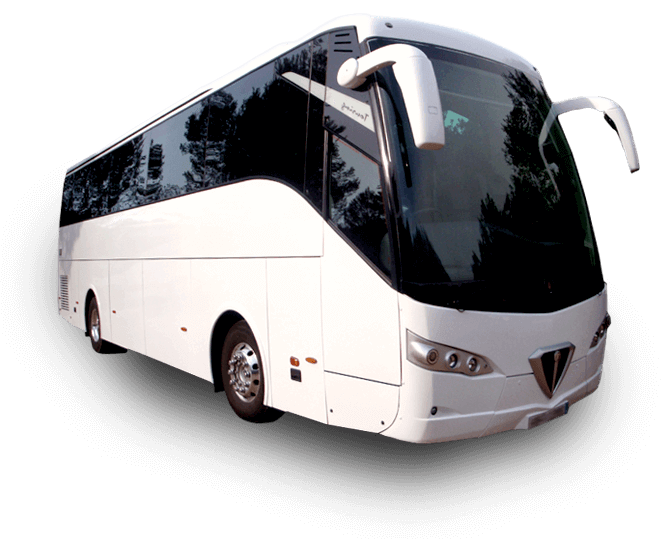bus: (56, 13, 613, 448)
